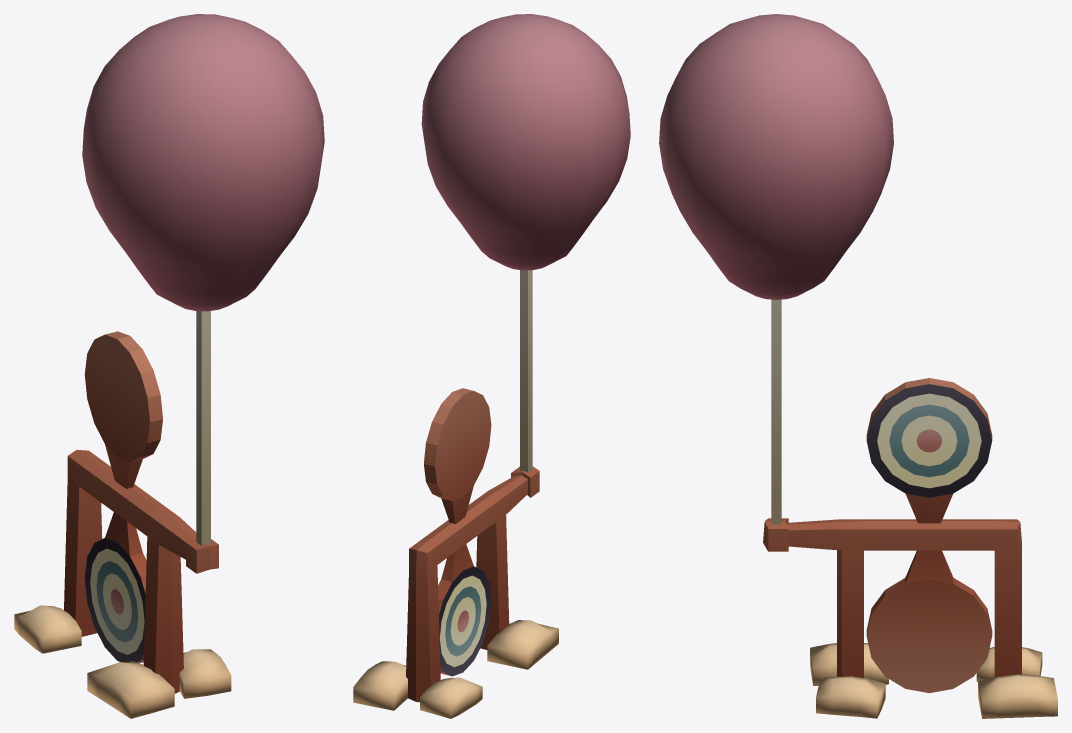
Rendered from target.fbx.
3 renders of one model, left to right at view 1: azimuth 30°, elevation 25°; view 2: azimuth 150°, elevation 25°; view 3: azimuth 270°, elevation 25°, orthographic. The views are drawn at different scales.
Parts seen in each view (by area): view 1: balloon, targetStand, targetSpin; view 2: balloon, targetStand, targetSpin; view 3: balloon, targetSpin, targetStand.
Part boxes in pixels (x1,y1,x2,y2): balloon: (82, 14, 324, 311); targetStand: (14, 311, 231, 718); targetSpin: (84, 331, 162, 663); balloon: (421, 14, 630, 270); targetStand: (353, 270, 558, 718); targetSpin: (424, 388, 491, 676); balloon: (659, 14, 893, 299); targetSpin: (866, 378, 992, 693); targetStand: (763, 299, 1057, 718).
Bounding box in the file's own units: 1.37 × 4.29 × 2.32.
